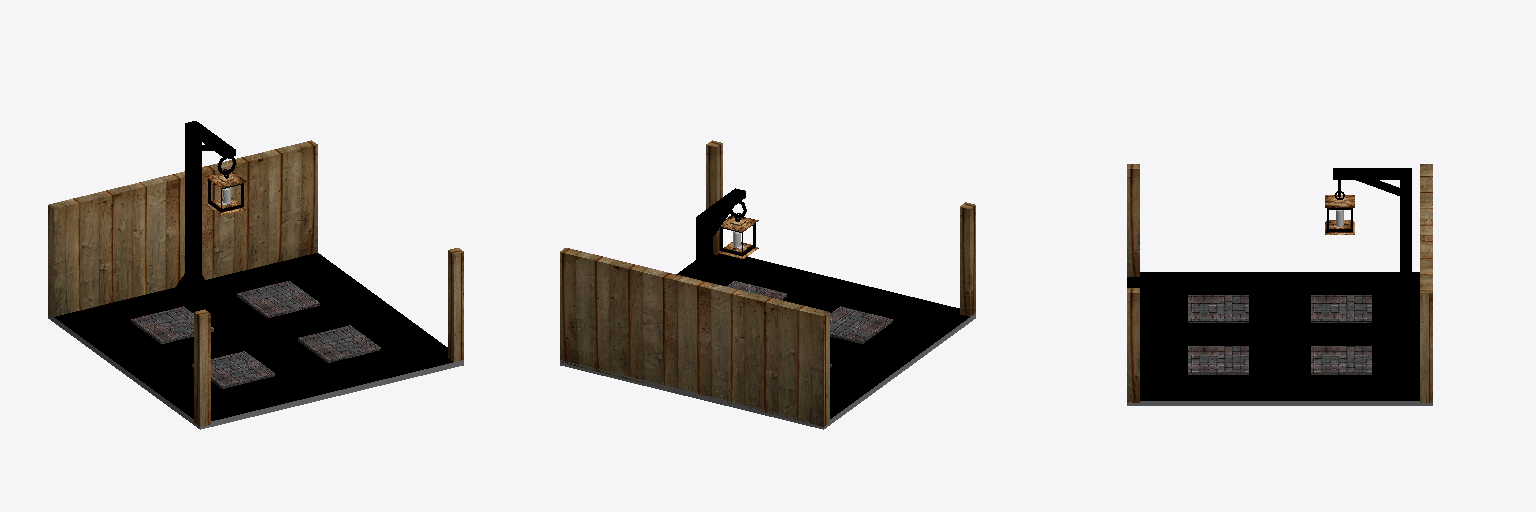
The picture shows the model from 3 angles: view 1: azimuth 30°, elevation 25°; view 2: azimuth 150°, elevation 25°; view 3: azimuth 270°, elevation 25°; orthographic projection.
Visible parts, largest first — view 1: Kreuzung_T_Holz; view 2: Kreuzung_T_Holz; view 3: Kreuzung_T_Holz.
Part boxes in pixels (x1,y1,x2,y2): Kreuzung_T_Holz: (48, 121, 463, 429); Kreuzung_T_Holz: (560, 140, 975, 429); Kreuzung_T_Holz: (1127, 164, 1432, 405).
Bounding box in the file's own units: 5 × 3.1 × 5.
Materials: 33 (3 with a texture image).